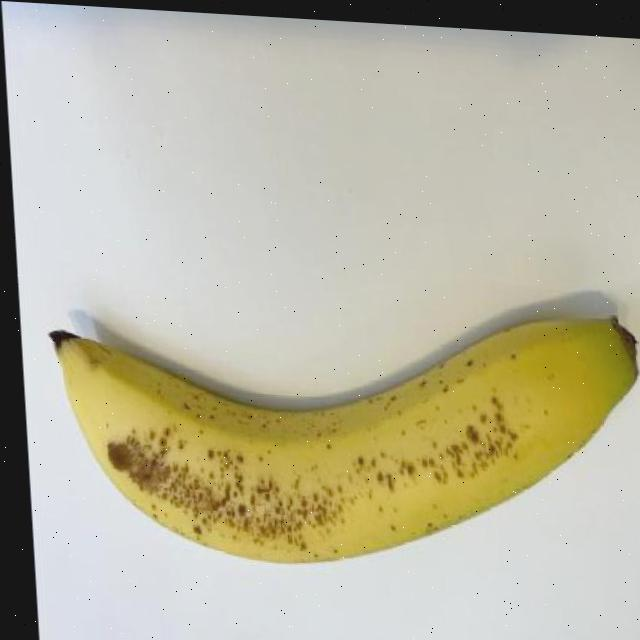banana: (43, 281, 640, 590)
